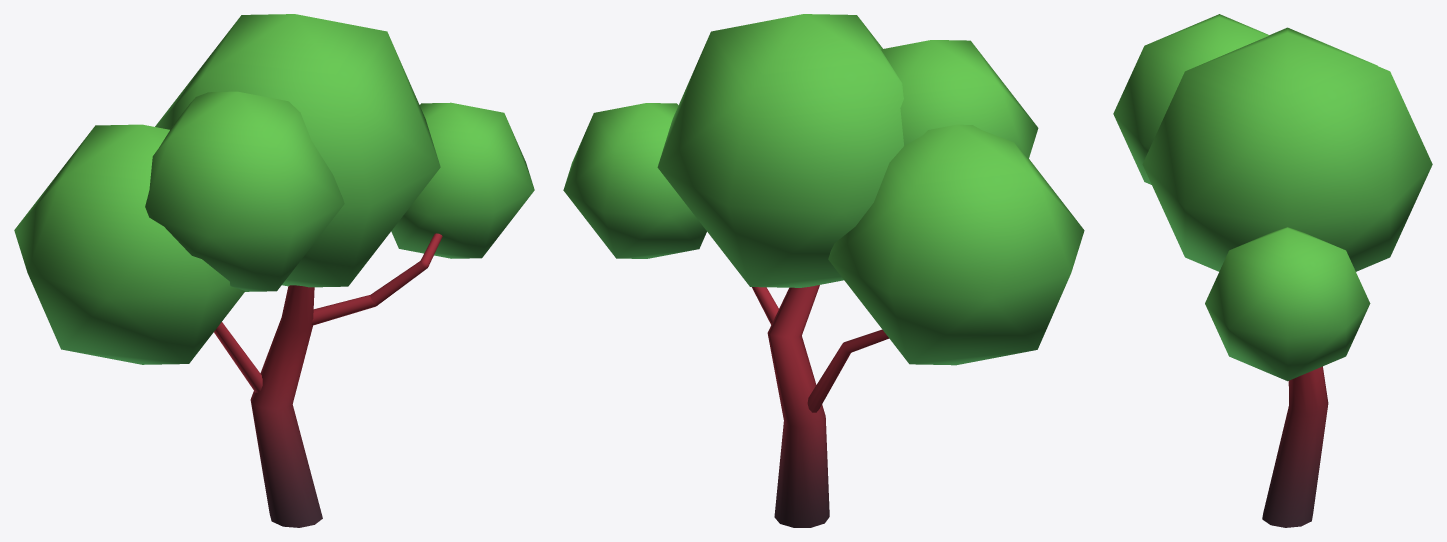
Rendered from oak1.fbx.
3 renders of one model, left to right at view 1: azimuth 30°, elevation 25°; view 2: azimuth 150°, elevation 25°; view 3: azimuth 270°, elevation 25°, orthographic. The views are drawn at different scales.
Visible parts, largest first — view 1: oak1; view 2: oak1; view 3: oak1.
Boxes of the visible parts, box(x1,y1,x2,y2) form: oak1: box(14, 14, 534, 527); oak1: box(563, 14, 1084, 527); oak1: box(1113, 14, 1432, 527).
Bounding box in the file's own units: 767 × 739 × 442.
